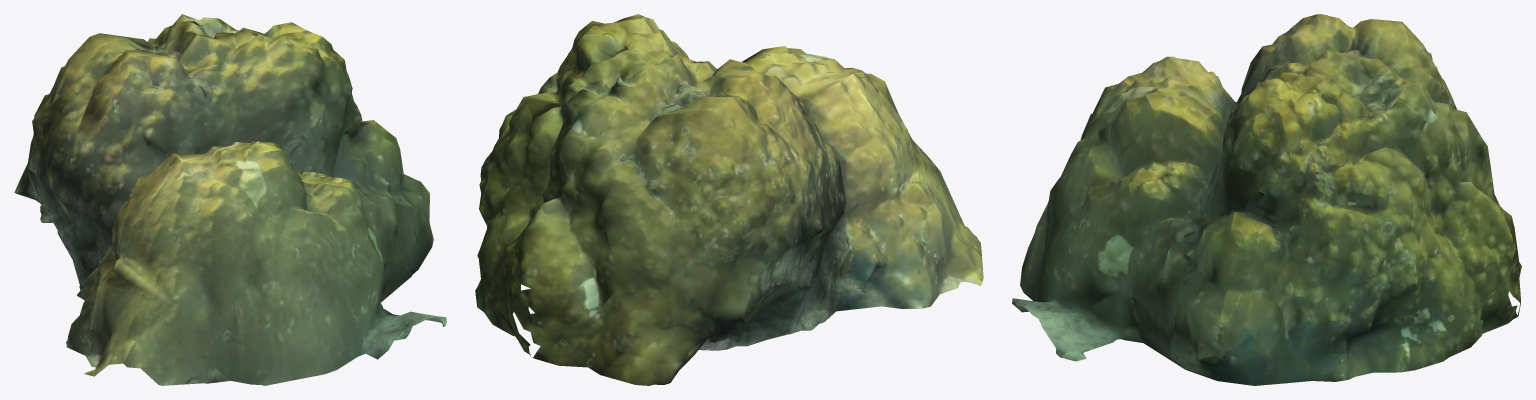
Rendered from porites-lutea.glb.
3 renders of one model, left to right at view 1: azimuth 30°, elevation 25°; view 2: azimuth 150°, elevation 25°; view 3: azimuth 270°, elevation 25°, orthographic. The views are drawn at different scales.
Visible parts, largest first — view 1: lowpoly_porit01_4k_0; view 2: lowpoly_porit01_4k_0; view 3: lowpoly_porit01_4k_0.
Boxes of the visible parts, x1,y1,x2,y2 form: lowpoly_porit01_4k_0: (14, 14, 446, 385); lowpoly_porit01_4k_0: (475, 14, 983, 385); lowpoly_porit01_4k_0: (1012, 14, 1521, 385).
Bounding box in the file's own units: 0.693 × 0.3974 × 0.7478.
Materials: 1 (1 with a texture image).
